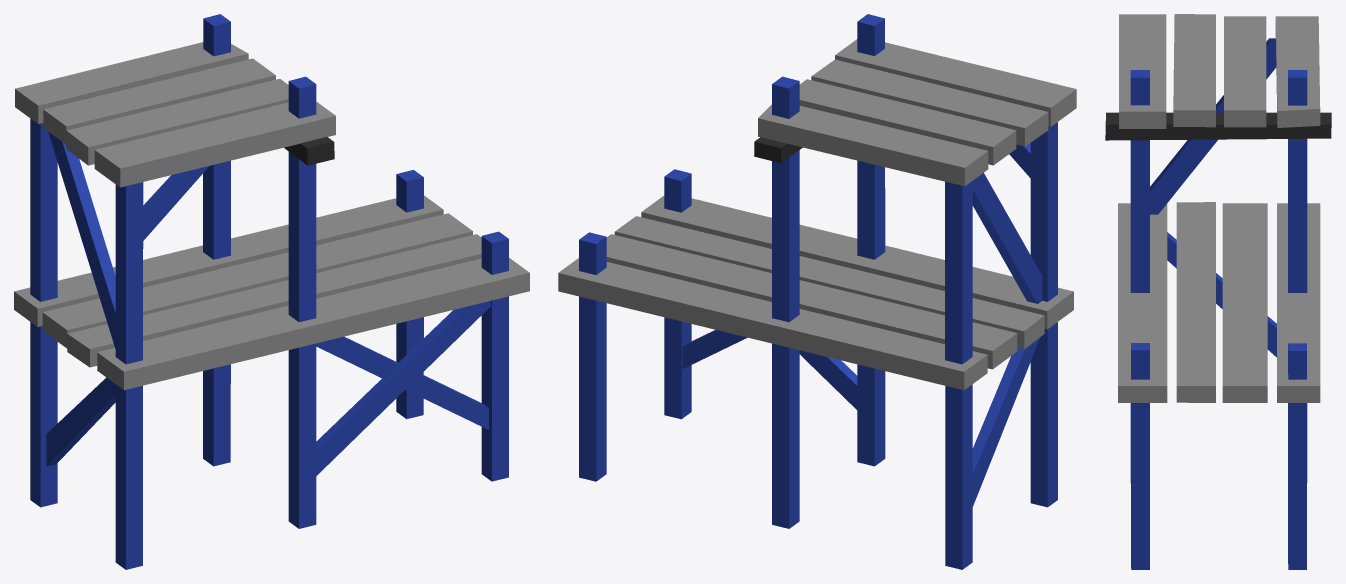
Rendered from Scaffolding_01_mm.fbx.
The picture shows the model from 3 angles, left to right: view 1: azimuth 30°, elevation 25°; view 2: azimuth 150°, elevation 25°; view 3: azimuth 270°, elevation 25°; orthographic projection. The views are drawn at different scales.
Visible parts, largest first — view 1: Scaffolding_01; view 2: Scaffolding_01; view 3: Scaffolding_01.
Boxes of the visible parts, x1,y1,x2,y2 form: Scaffolding_01: [14, 14, 529, 569]; Scaffolding_01: [558, 14, 1076, 569]; Scaffolding_01: [1105, 14, 1331, 569].
Size of the model in its own units: 421 by 431 by 218.
